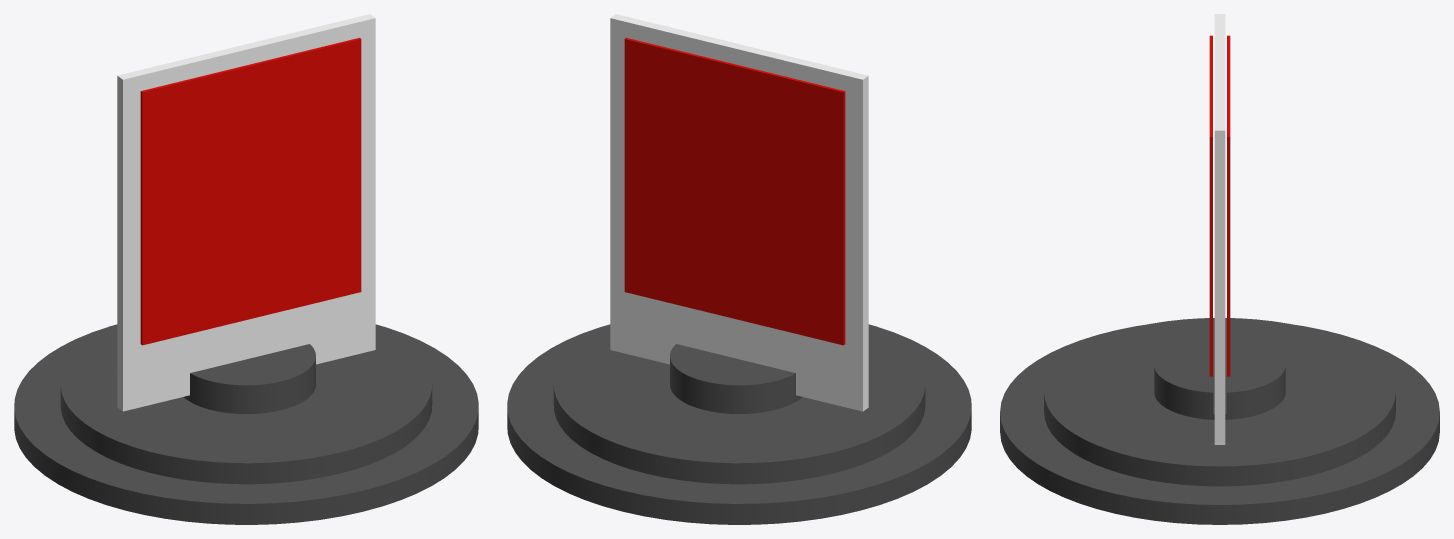
The model's file is Железный стоячий токен.fbx.
3 views of the same model, side by side, from view 1: azimuth 30°, elevation 25°; view 2: azimuth 150°, elevation 25°; view 3: azimuth 270°, elevation 25° (orthographic). The views are drawn at different scales.
Parts seen in each view (by area): view 1: BezierCircle.009; view 2: BezierCircle.009; view 3: BezierCircle.009.
Boxes of the visible parts, box(x1,y1,x2,y2) form: BezierCircle.009: box(14, 14, 478, 524); BezierCircle.009: box(507, 14, 971, 524); BezierCircle.009: box(1000, 14, 1439, 524).
Bounding box in the file's own units: 0.5698 × 0.5698 × 0.514.
